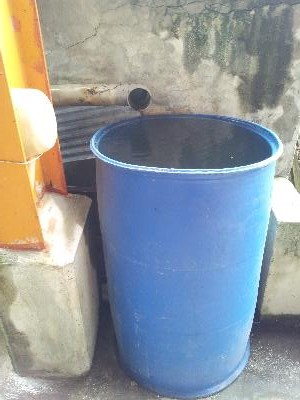bucket: (88, 110, 285, 397)
